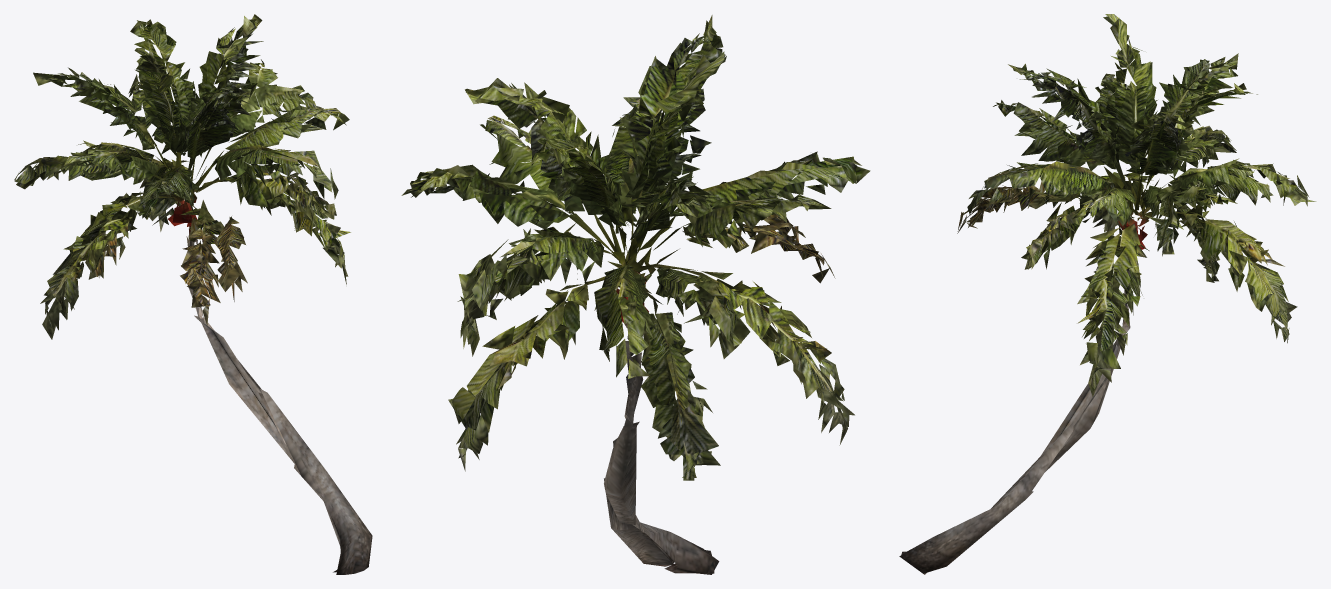
The model's file is palm_tree_b_LOD2.fbx.
3 renders of one model, left to right at view 1: azimuth 30°, elevation 25°; view 2: azimuth 150°, elevation 25°; view 3: azimuth 270°, elevation 25°, orthographic. The views are drawn at different scales.
Visible parts, largest first — view 1: palm_tree_b.001; view 2: palm_tree_b.001; view 3: palm_tree_b.001.
Part boxes in pixels (x1=…): palm_tree_b.001: x1=14, y1=14, x2=372, y2=574; palm_tree_b.001: x1=401, y1=15, x2=870, y2=574; palm_tree_b.001: x1=899, y1=14, x2=1316, y2=574.
Size of the model in its own units: 5.25 by 7.94 by 6.06.
1 material, 1 textured.
